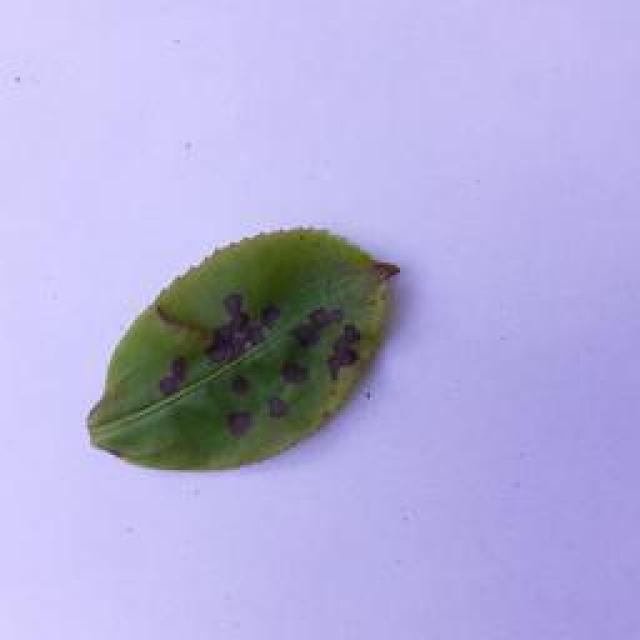Helopeltis: (64, 212, 434, 477)
